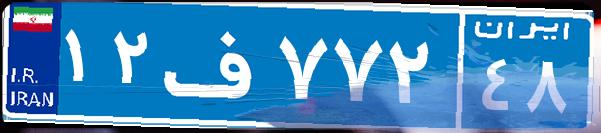1: (57, 26, 110, 107)
2: (385, 28, 445, 110), (110, 28, 158, 105)
4: (475, 38, 525, 113)
7: (273, 28, 330, 110), (330, 28, 385, 110)
8: (525, 38, 570, 115)
ف: (158, 15, 273, 115)
